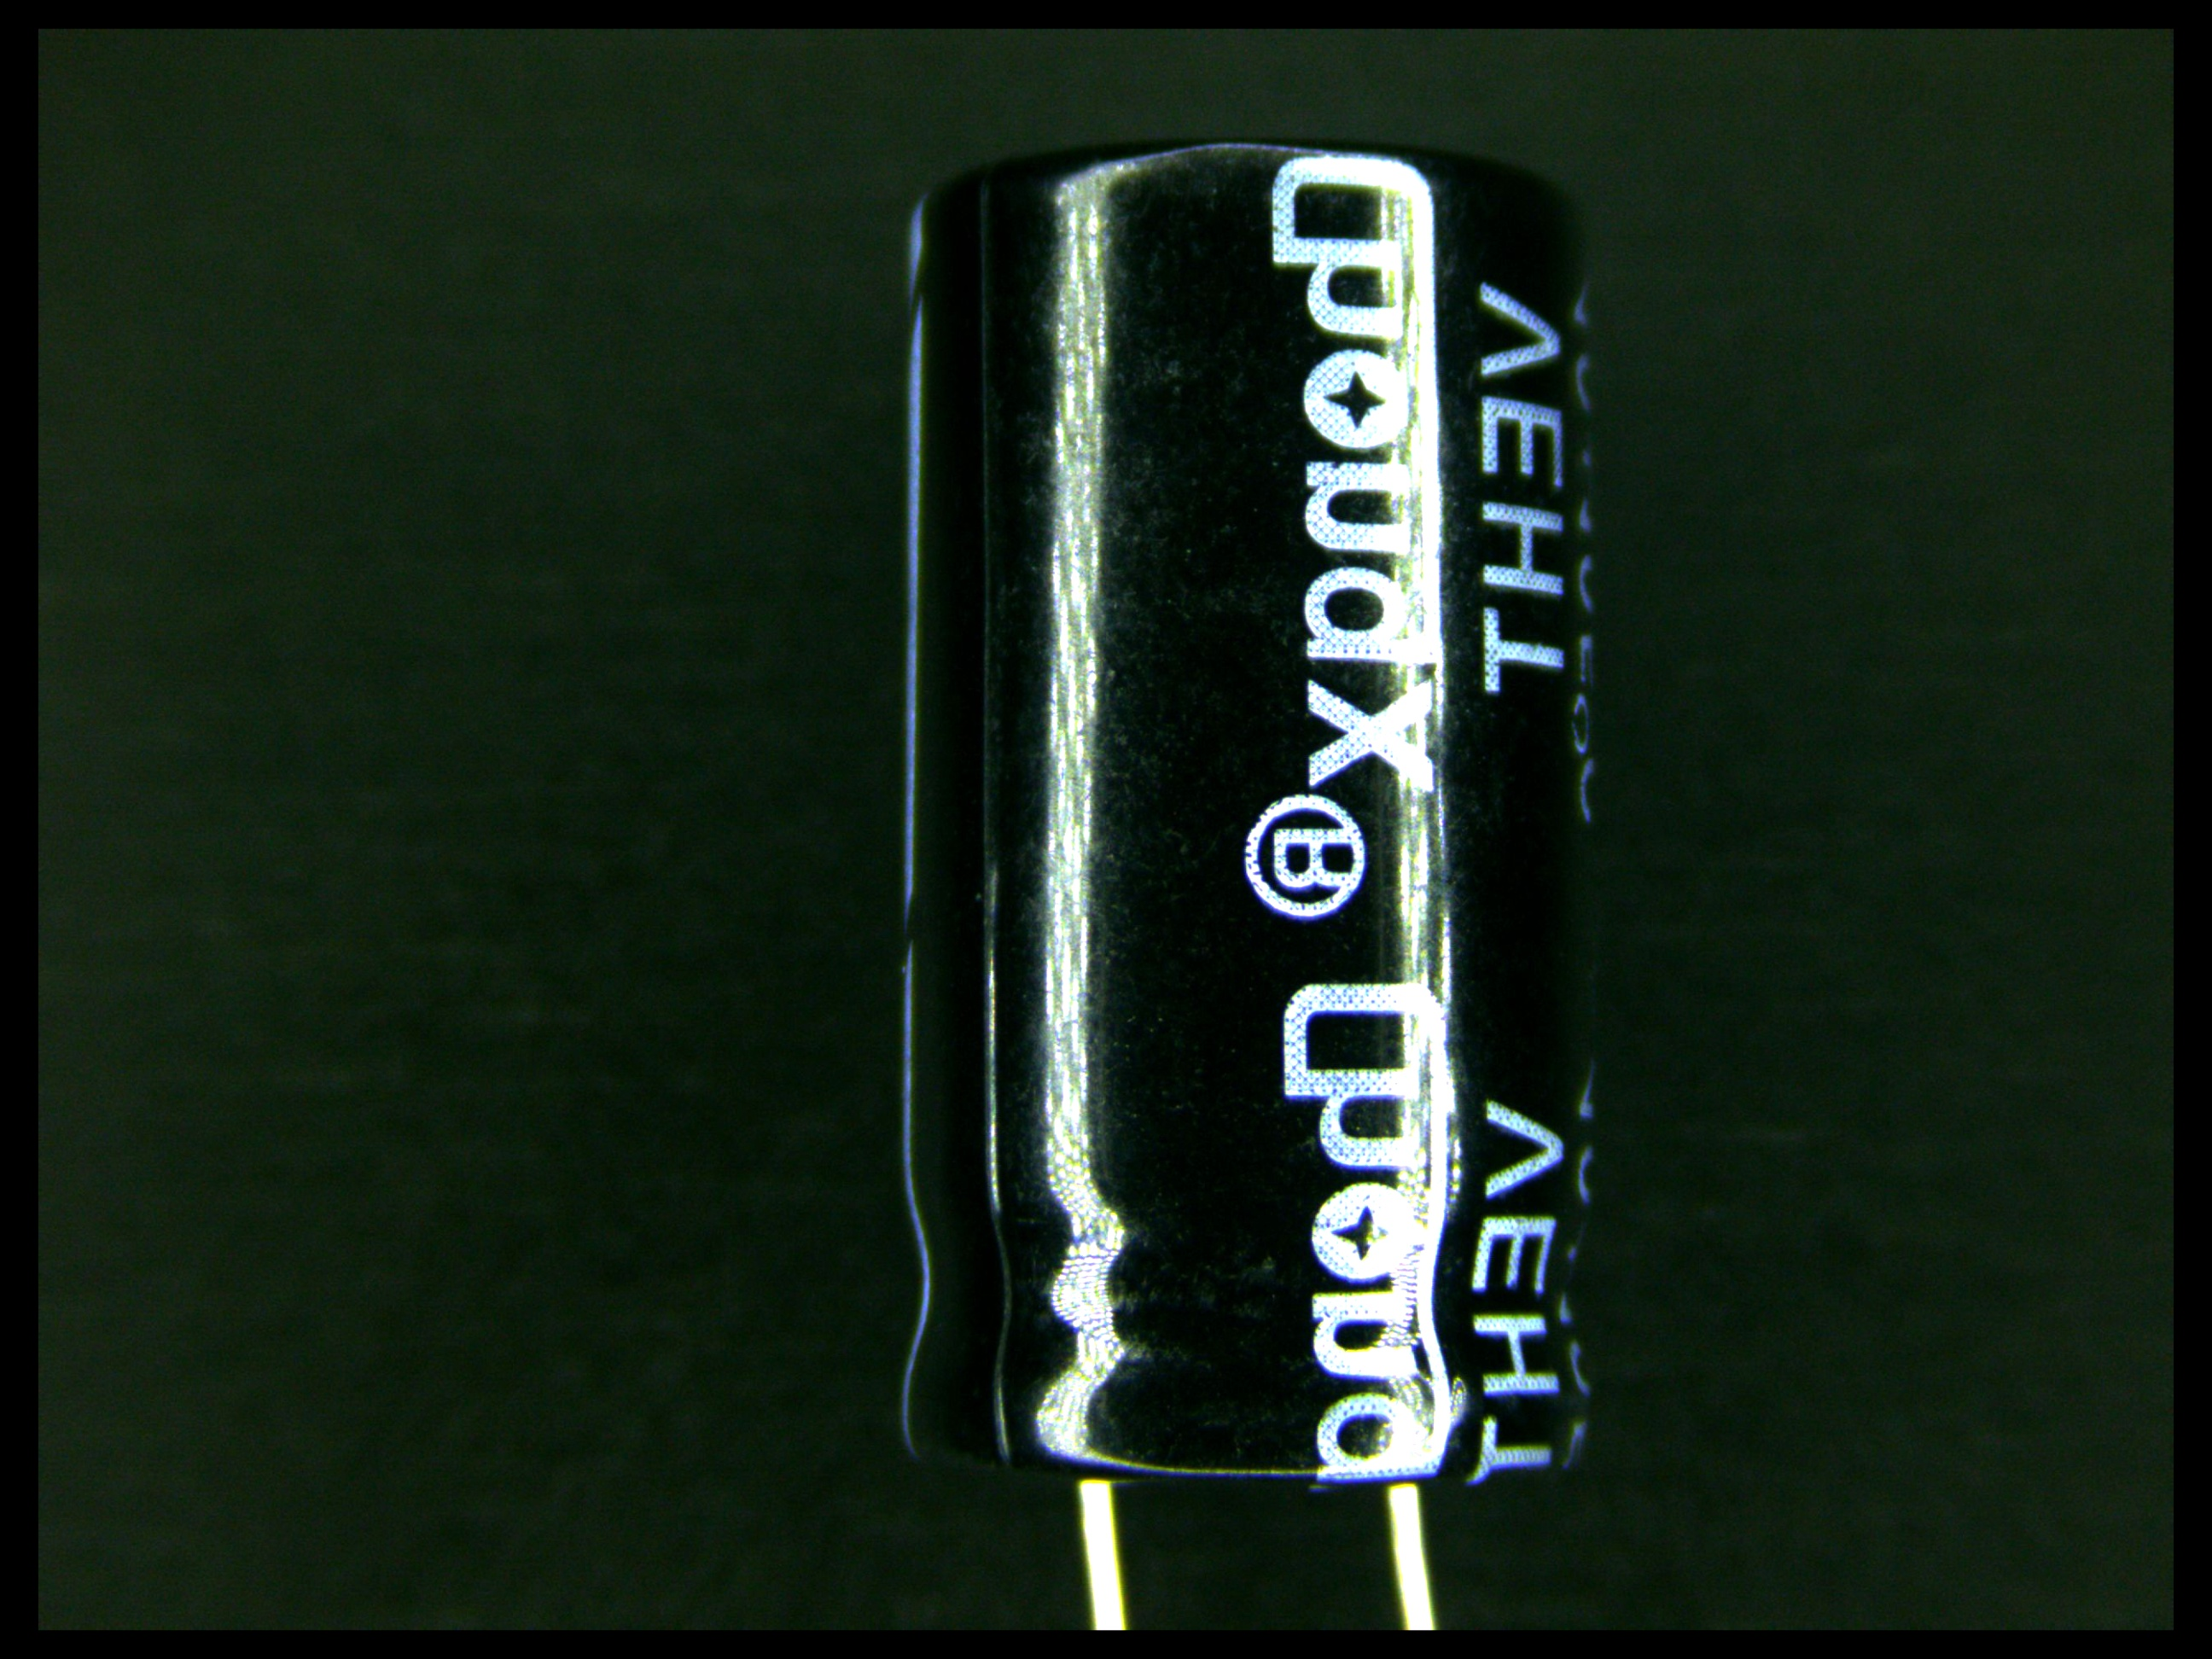c3: (885, 131, 1620, 1507)
